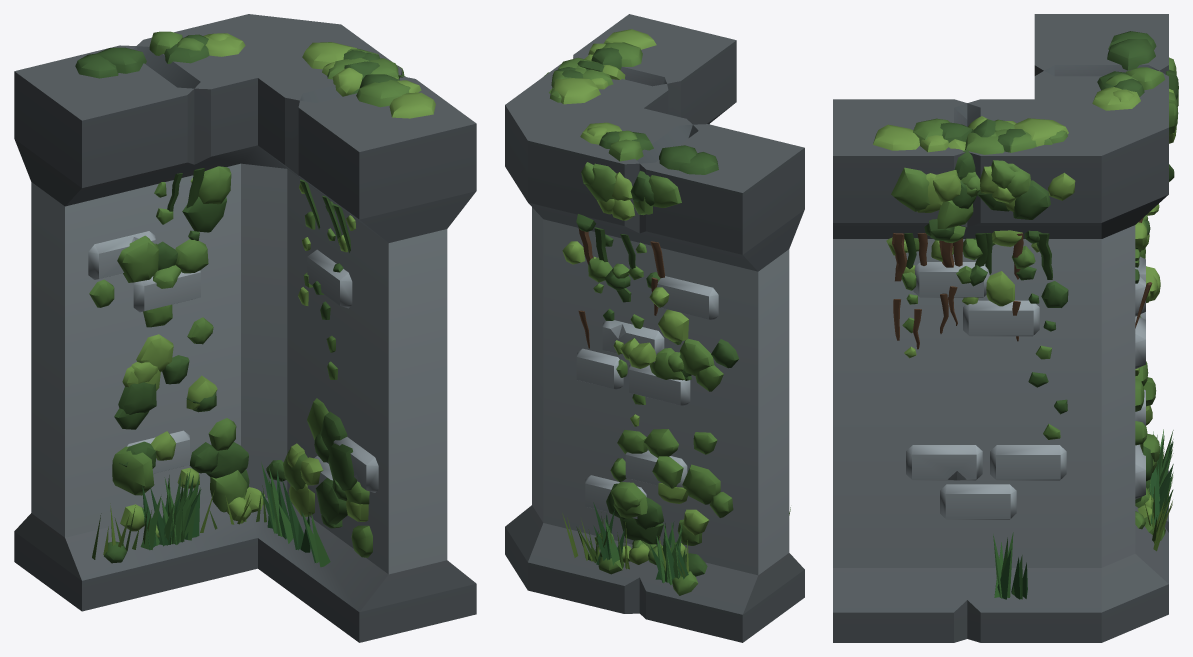
Rendered from wall_overgrown_corner_A.glb.
3 views of the same model, side by side, from view 1: azimuth 30°, elevation 25°; view 2: azimuth 150°, elevation 25°; view 3: azimuth 270°, elevation 25° (orthographic). The views are drawn at different scales.
Parts seen in each view (by area): view 1: Item; view 2: Item; view 3: Item.
Part boxes in pixels (x1,y1,x2,y2): Item: (14, 14, 476, 642); Item: (505, 14, 804, 642); Item: (833, 14, 1178, 642).
Size of the model in its own units: 2.6 by 4.11 by 2.57.
Materials: 3 (3 with a texture image).
